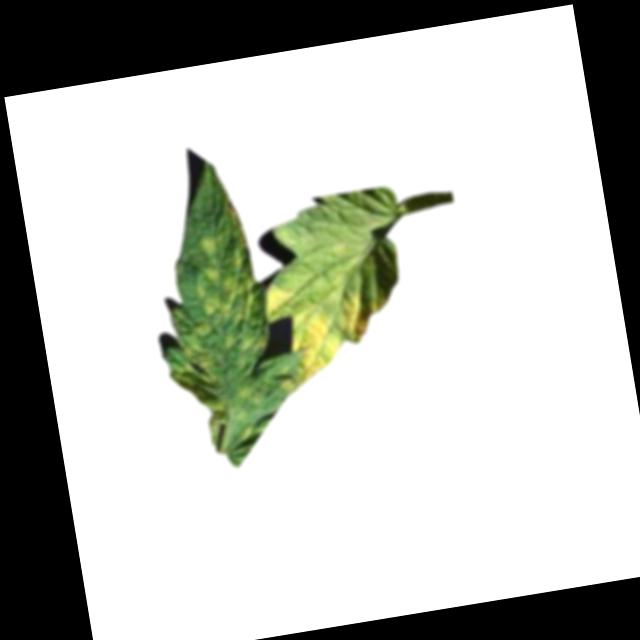Leaf_Mold: (153, 192, 272, 366), (262, 260, 397, 395), (166, 338, 238, 453)
